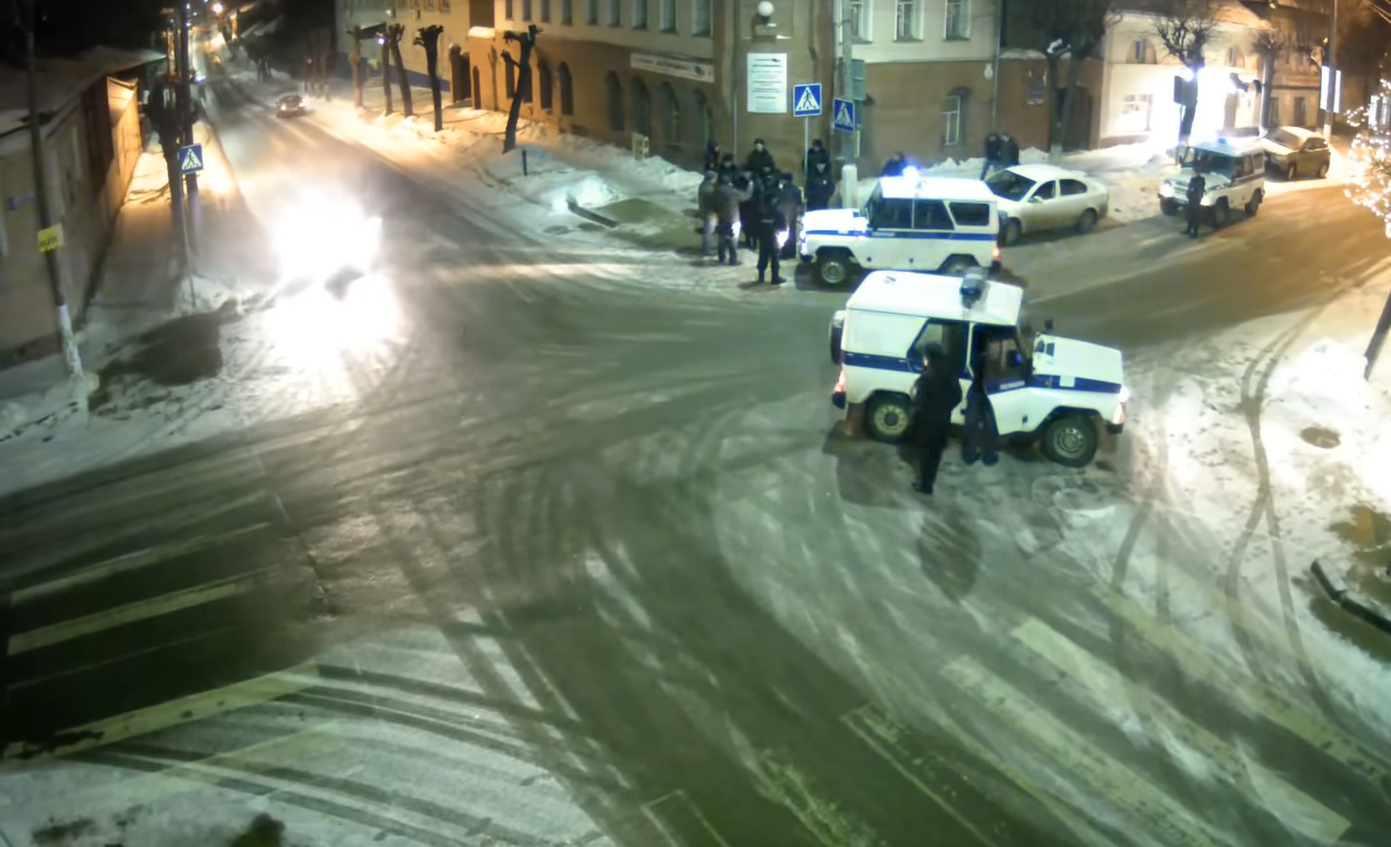car: (973, 165, 1113, 241), (1260, 126, 1334, 180), (271, 86, 310, 116)
pedestrian: (904, 342, 962, 497), (958, 356, 1000, 468), (753, 194, 787, 286), (713, 174, 743, 265), (696, 169, 722, 259), (775, 176, 803, 259), (739, 171, 764, 250), (1181, 169, 1205, 238), (804, 160, 834, 209), (746, 137, 777, 175), (801, 139, 828, 174), (703, 141, 724, 176), (720, 154, 741, 183)
police: (825, 268, 1131, 464), (795, 174, 1003, 286), (1158, 138, 1272, 235)
